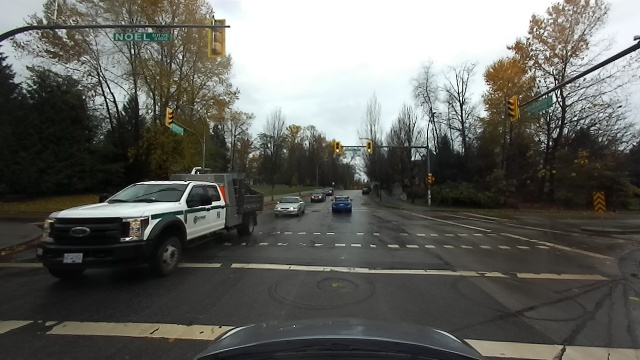car: (36, 167, 266, 281), (274, 195, 307, 217), (330, 194, 354, 215), (310, 189, 327, 203), (360, 187, 370, 195), (325, 187, 335, 195)
